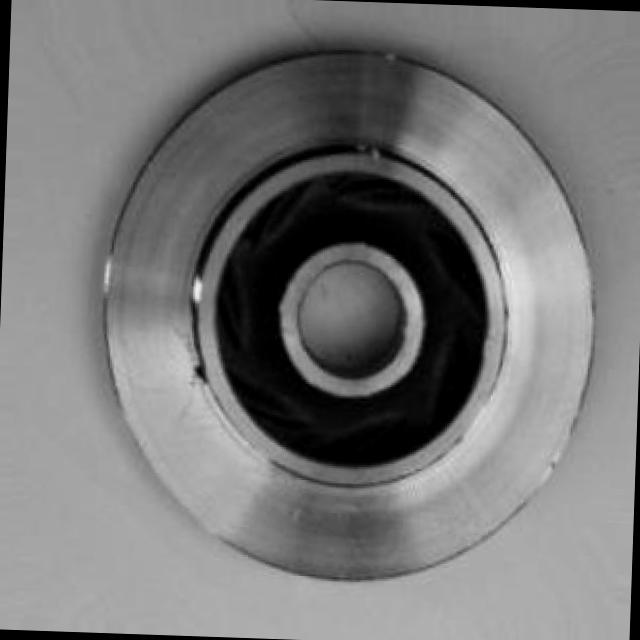Defect: (182, 353, 222, 395)
